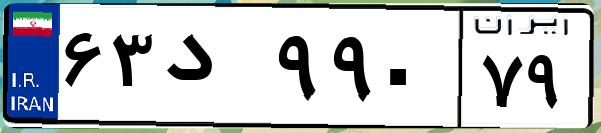0: (385, 28, 445, 110)
3: (110, 28, 158, 98)
6: (57, 26, 110, 100)
7: (475, 38, 525, 113)
9: (270, 28, 330, 110), (330, 28, 385, 110), (525, 38, 570, 115)
د: (158, 20, 270, 120)
